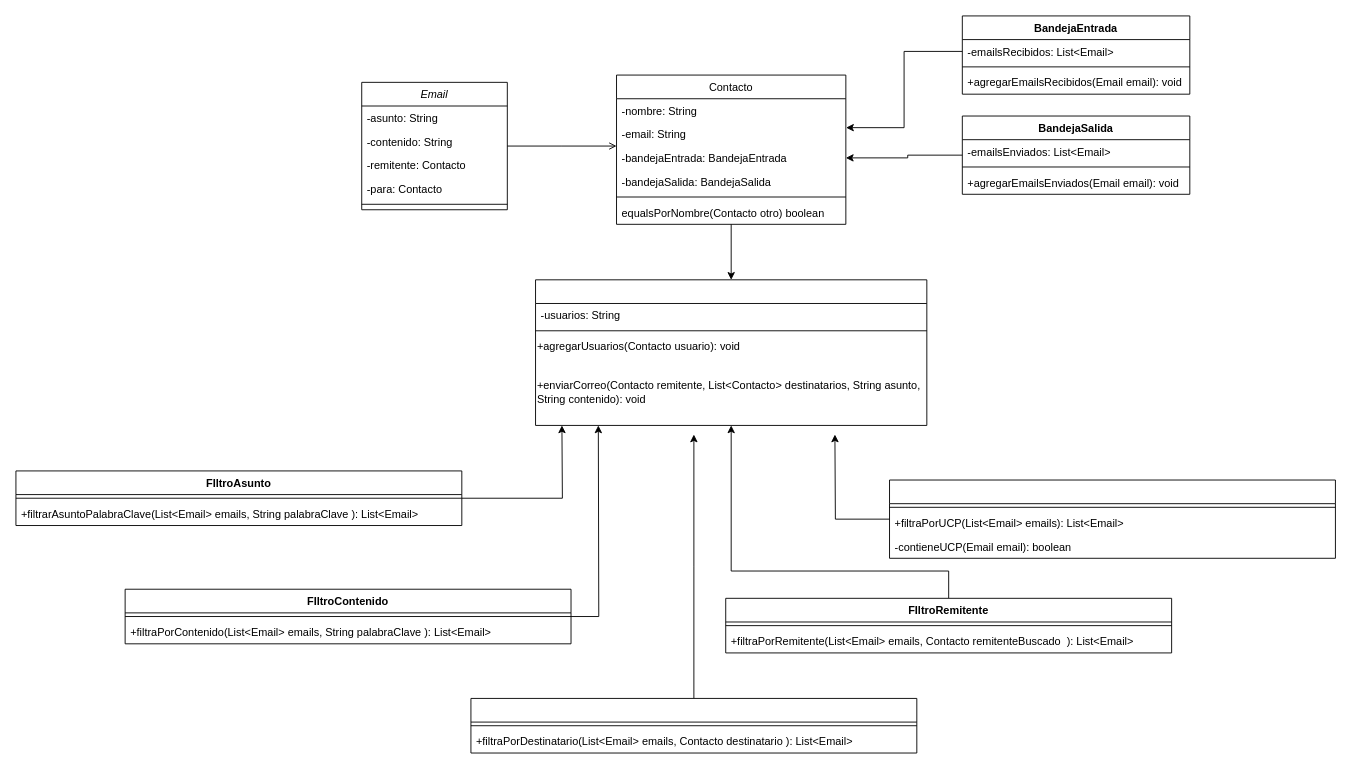
The diagram is 1351 pixels wide and 772 high, and some of its shapes have lost their labels. The box of each missing label's shape, as (x1, y1, x2, y2) in pixels:
FIltroDestinatario: (470, 698, 917, 753)
FIltroUCP: (889, 479, 1335, 558)
MailManager: (535, 279, 927, 425)
